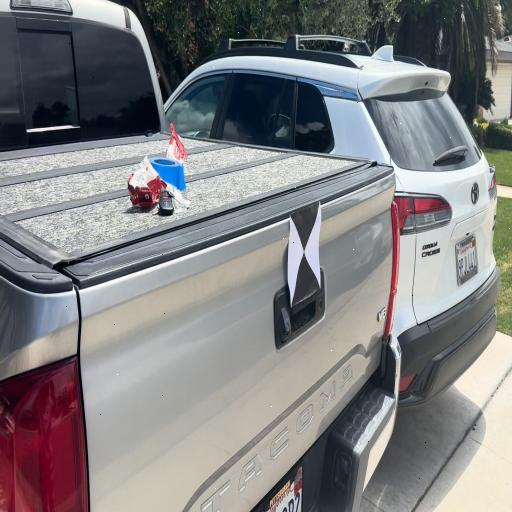target: (290, 202, 321, 306)
